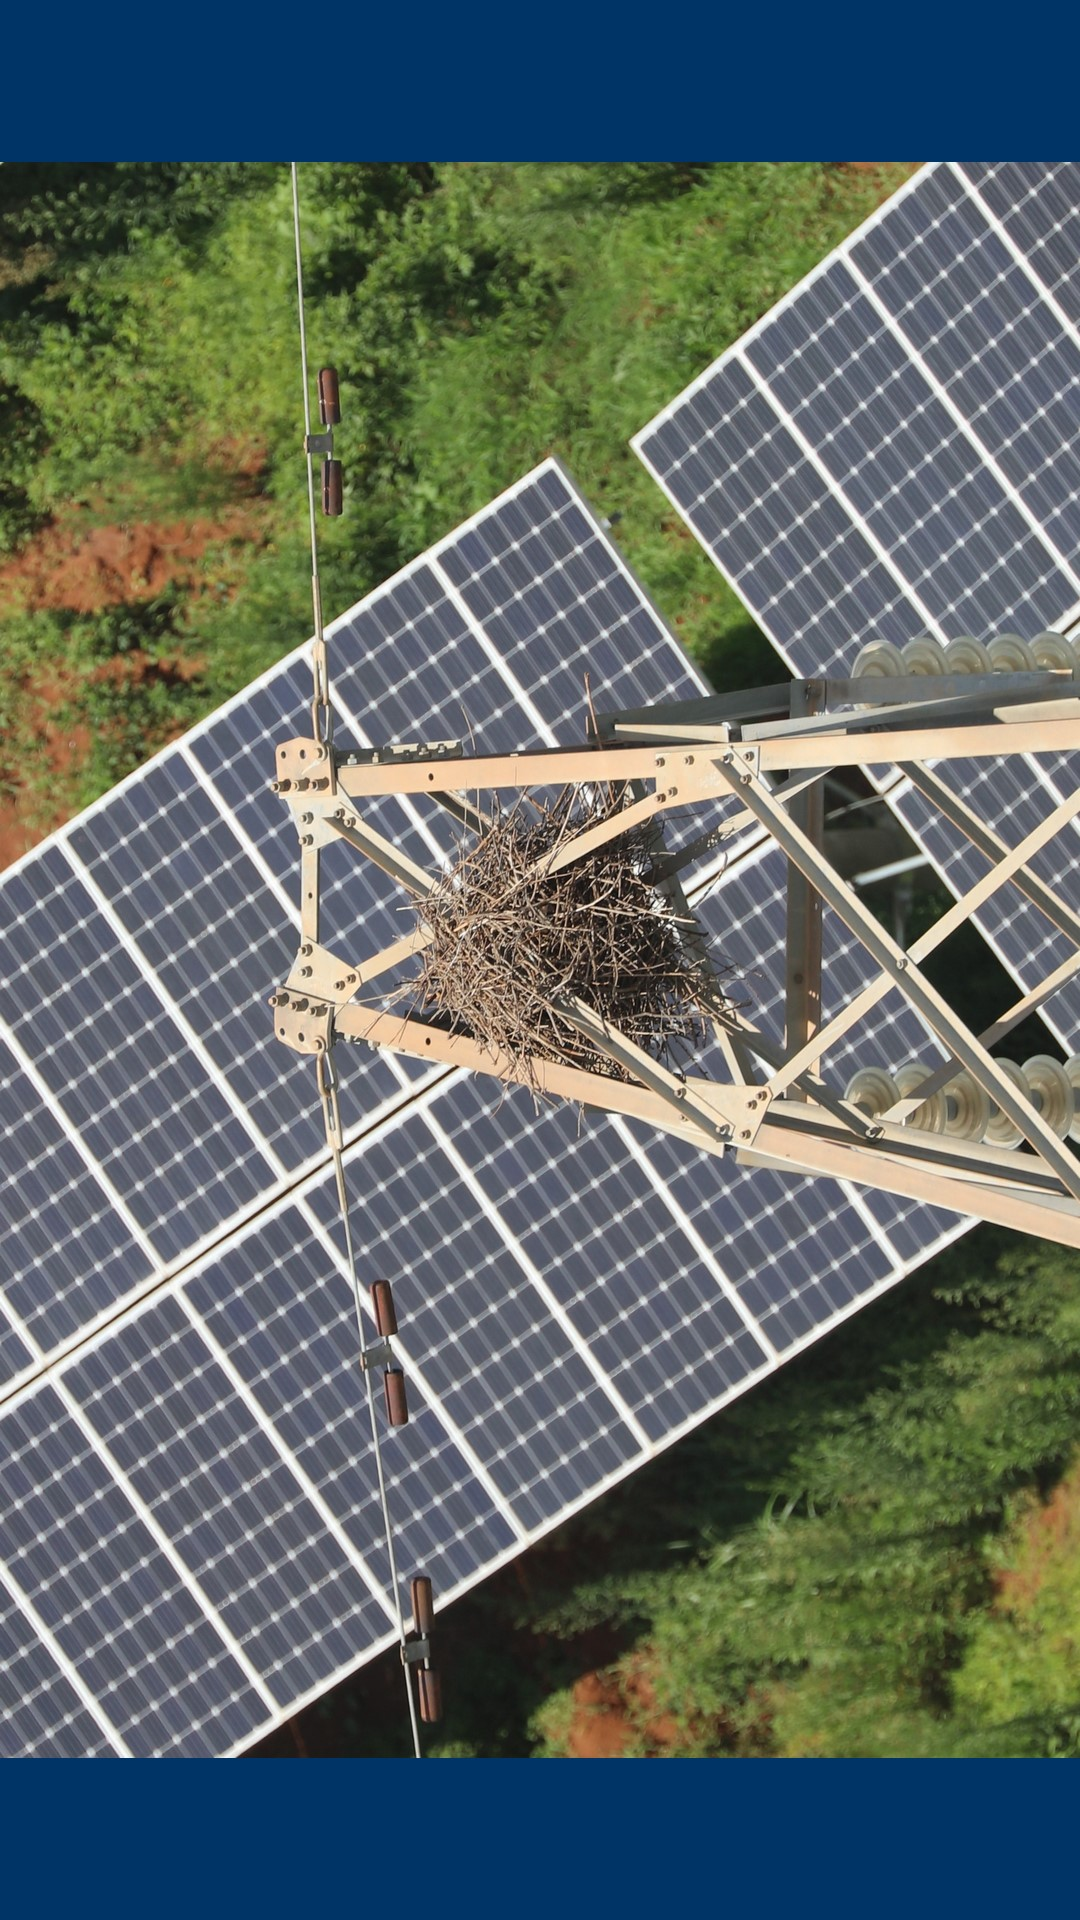niaowo: (375, 779, 727, 1102)
